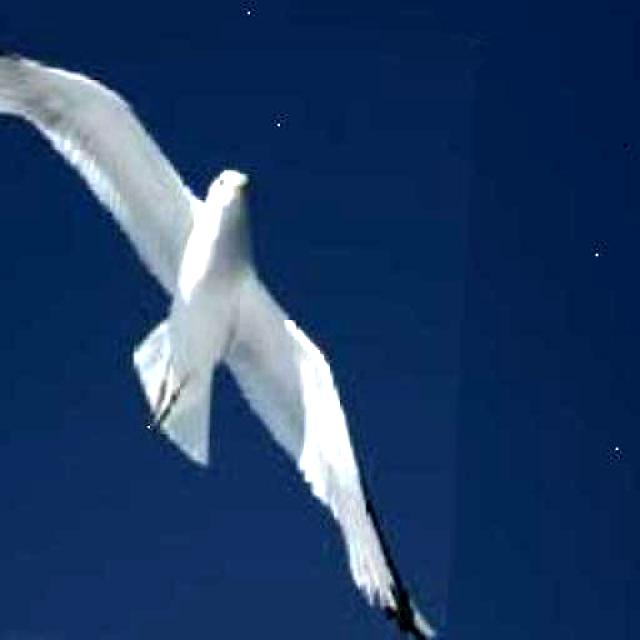airplane: (0, 6, 479, 640)
